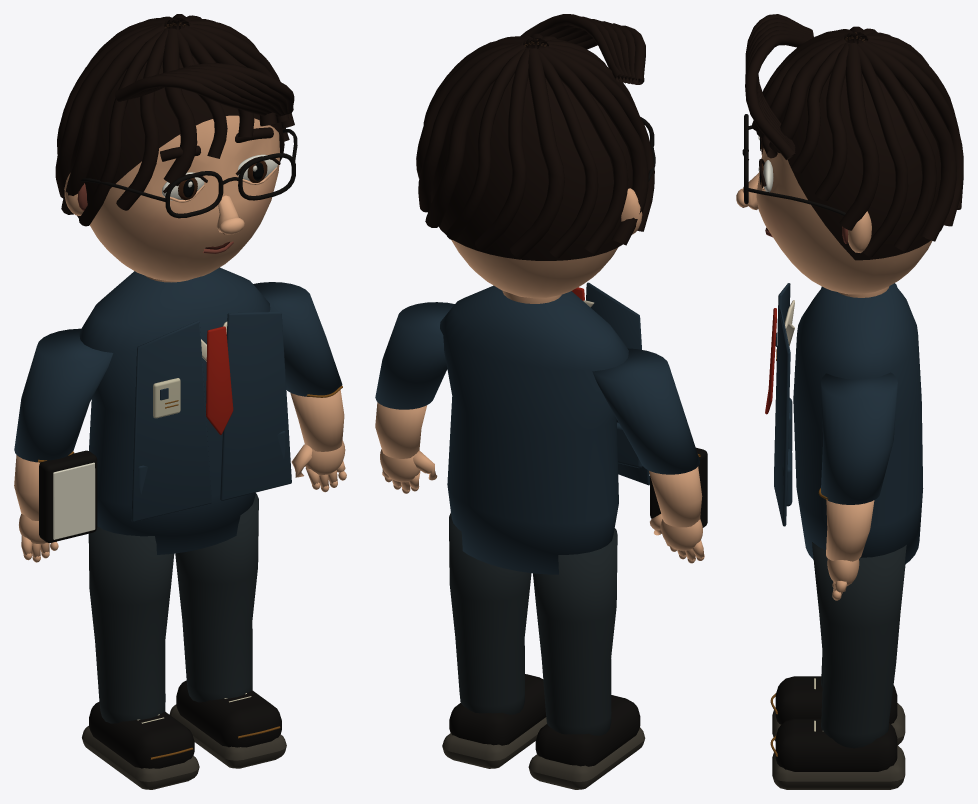
File: receptionist-02.glb
3 views of the same model, side by side, from view 1: azimuth 30°, elevation 25°; view 2: azimuth 150°, elevation 25°; view 3: azimuth 270°, elevation 25° (orthographic).
Parts seen in each view (by area): view 1: Head, ArmL, Body, ArmR, LegL, LegR; view 2: Head, Body, LegL, LegR, ArmL, ArmR; view 3: Head, Body, LegR, ArmR, LegL, ArmL.
Part boxes in pixels (left/top/right/bottom): Head: left=55, top=14, right=297, bottom=280; ArmL: left=14, top=320, right=211, bottom=562; Body: left=38, top=267, right=342, bottom=554; ArmR: left=220, top=282, right=346, bottom=500; LegL: left=82, top=526, right=199, bottom=789; LegR: left=169, top=493, right=286, bottom=768; Head: left=416, top=14, right=655, bottom=298; Body: left=440, top=285, right=700, bottom=574; LegL: left=528, top=528, right=645, bottom=789; LegR: left=442, top=512, right=546, bottom=768; ArmL: left=586, top=282, right=707, bottom=563; ArmR: left=375, top=302, right=454, bottom=493; Head: left=736, top=14, right=963, bottom=294; Body: left=765, top=283, right=923, bottom=564; LegR: left=770, top=542, right=906, bottom=789; ArmR: left=774, top=309, right=897, bottom=600; LegL: left=770, top=652, right=905, bottom=745; ArmL: left=774, top=283, right=896, bottom=472.
Bounding box in the file's own units: 0.6343 × 1.35 × 0.387.
